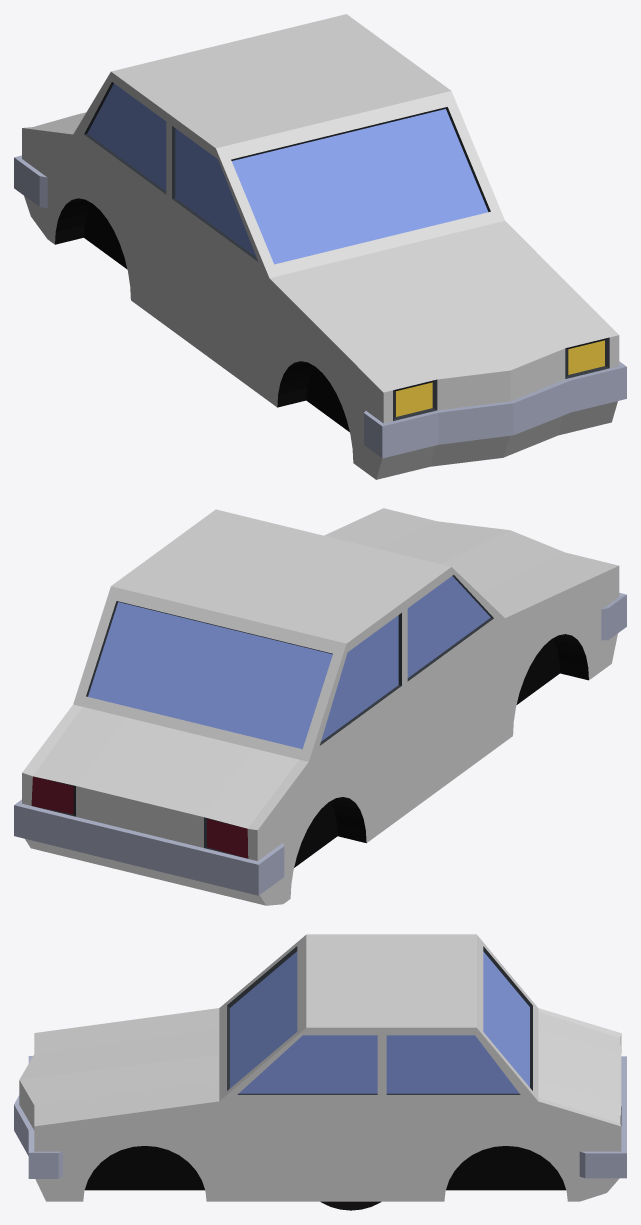
The model's file is car.glb.
The picture shows the model from 3 angles, top to bottom: view 1: azimuth 30°, elevation 25°; view 2: azimuth 150°, elevation 25°; view 3: azimuth 270°, elevation 25°; orthographic projection. The views are drawn at different scales.
Parts seen in each view (by area): view 1: base; view 2: base; view 3: base, Wheel.
Part boxes in pixels (bbox=[...]): base: bbox=[14, 14, 626, 479]; base: bbox=[14, 508, 626, 905]; base: bbox=[14, 934, 626, 1201]; Wheel: bbox=[320, 1201, 381, 1210].
Bounding box in the file's own units: 2.07 × 2.23 × 5.54.
2 materials, 1 textured.
